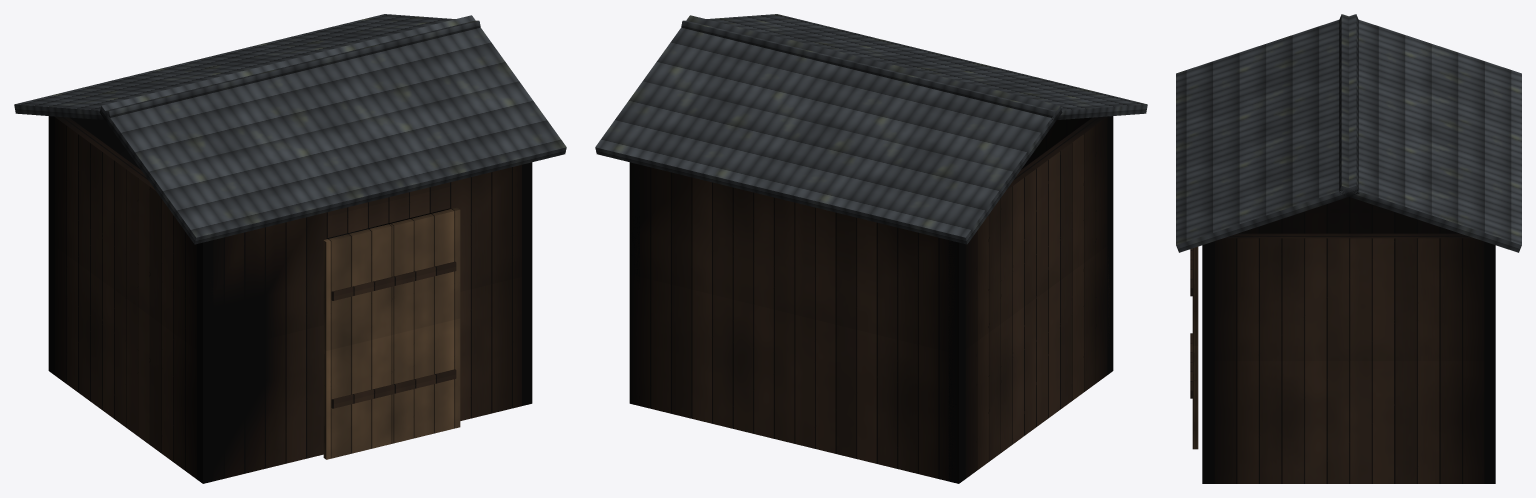
File: shed.glb
3 renders of one model, left to right at view 1: azimuth 30°, elevation 25°; view 2: azimuth 150°, elevation 25°; view 3: azimuth 270°, elevation 25°, orthographic. The views are drawn at different scales.
Visible parts, largest first — view 1: shed, shed_door; view 2: shed; view 3: shed, shed_door.
Boxes of the visible parts, x1,y1,x2,y2 form: shed: (14,14,566,483); shed_door: (323,207,460,459); shed: (595,14,1147,483); shed: (1176,14,1521,483); shed_door: (1190,247,1198,449).
Size of the model in its own units: 3.6 by 3.02 by 3.06.
Materials: 4 (4 with a texture image).
